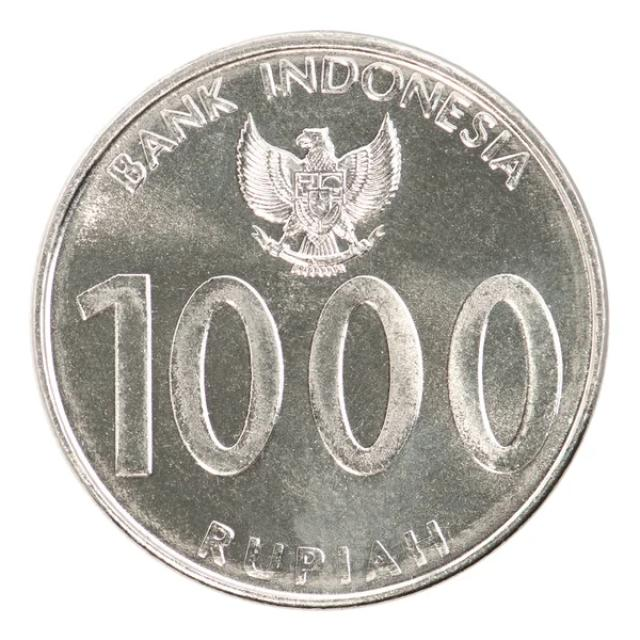1000-angklung: (19, 22, 618, 622)
